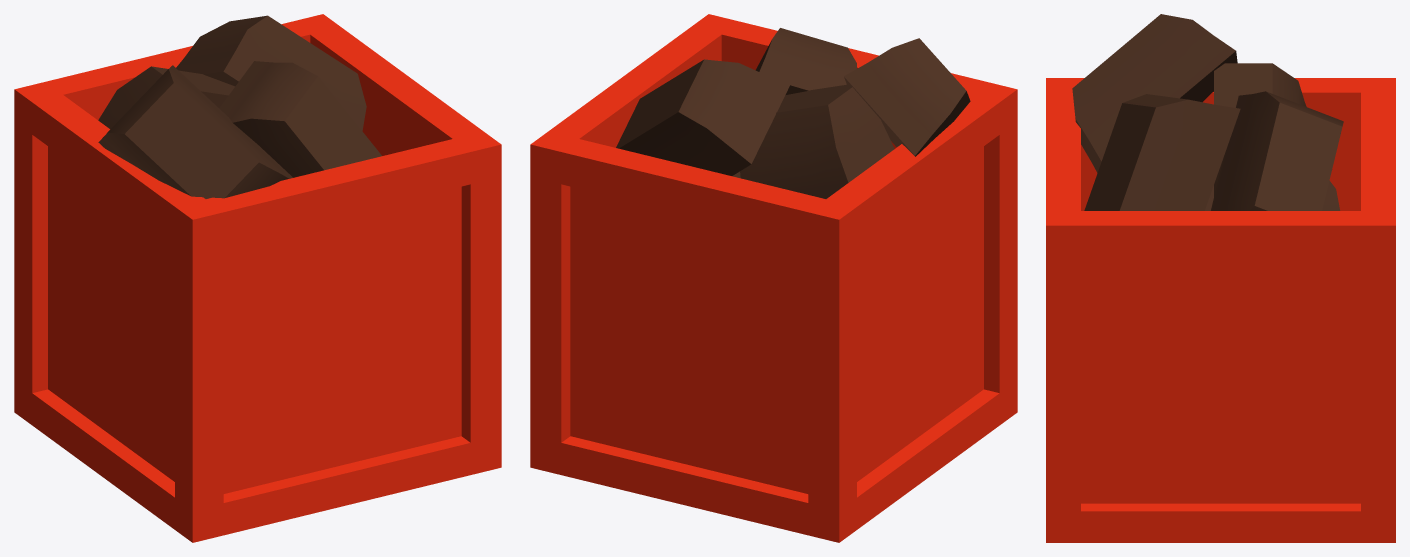
The model's file is Kiste_Voll.fbx.
3 views of the same model, side by side, from view 1: azimuth 30°, elevation 25°; view 2: azimuth 150°, elevation 25°; view 3: azimuth 270°, elevation 25° (orthographic).
Parts seen in each view (by area): view 1: kiste001, Box009, Box013, Box014, Box010; view 2: kiste001, Box014, Box010, Box009, Box013; view 3: kiste001, Box013, Box014, Box009, Box010, Box012.
Part boxes in pixels (bbox=[...]): kiste001: bbox=[14, 14, 501, 542]; Box009: bbox=[98, 65, 292, 198]; Box013: bbox=[219, 61, 381, 177]; Box014: bbox=[176, 15, 366, 130]; Box010: bbox=[98, 66, 234, 129]; kiste001: bbox=[530, 14, 1017, 542]; Box014: bbox=[616, 59, 789, 175]; Box010: bbox=[740, 84, 894, 198]; Box009: bbox=[844, 38, 970, 156]; Box013: bbox=[755, 28, 856, 94]; kiste001: bbox=[1046, 78, 1395, 542]; Box013: bbox=[1084, 94, 1240, 210]; Box014: bbox=[1211, 91, 1343, 210]; Box009: bbox=[1072, 14, 1237, 172]; Box010: bbox=[1214, 63, 1306, 196]; Box012: bbox=[1205, 180, 1340, 210].
Bounding box in the file's own units: 203 × 248 × 197.
